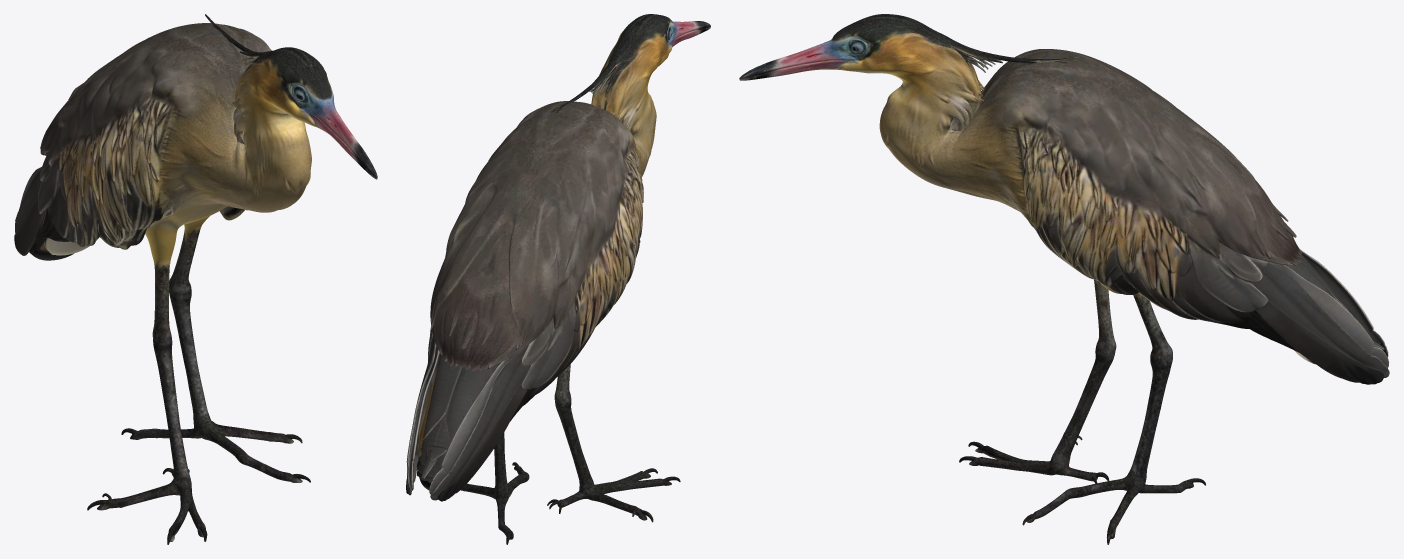
The model's file is garza.glb.
The picture shows the model from 3 angles, left to right: view 1: azimuth 30°, elevation 25°; view 2: azimuth 150°, elevation 25°; view 3: azimuth 270°, elevation 25°; orthographic projection. The views are drawn at different scales.
Bounding box in the file's own units: 0.7363 × 1.53 × 1.9.
1 material, 1 textured.
